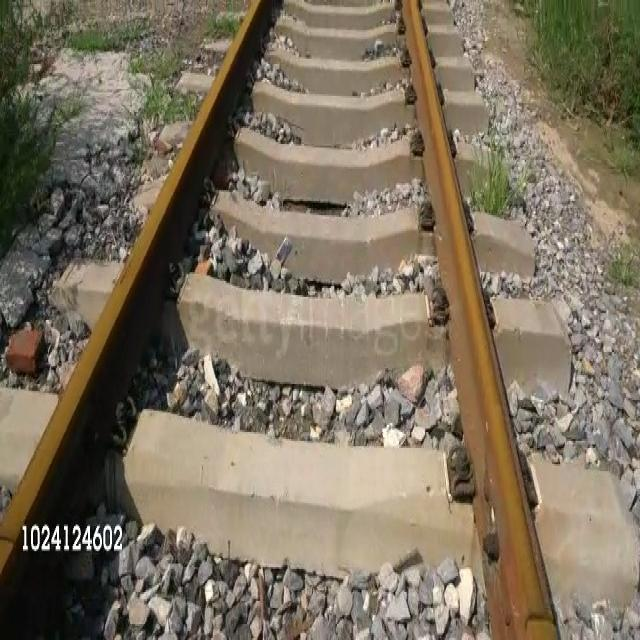Plant: (509, 0, 639, 156), (0, 100, 54, 261), (129, 56, 198, 123), (472, 157, 530, 215), (0, 0, 27, 98), (590, 144, 639, 177), (71, 33, 128, 51), (611, 252, 639, 285), (203, 11, 236, 37)
